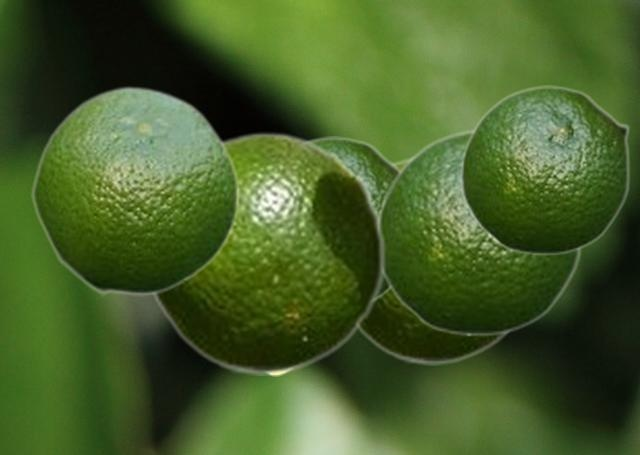calamansi: (147, 131, 386, 374), (30, 84, 239, 295), (377, 129, 582, 336), (358, 153, 515, 364), (460, 85, 630, 255), (305, 136, 399, 303)
